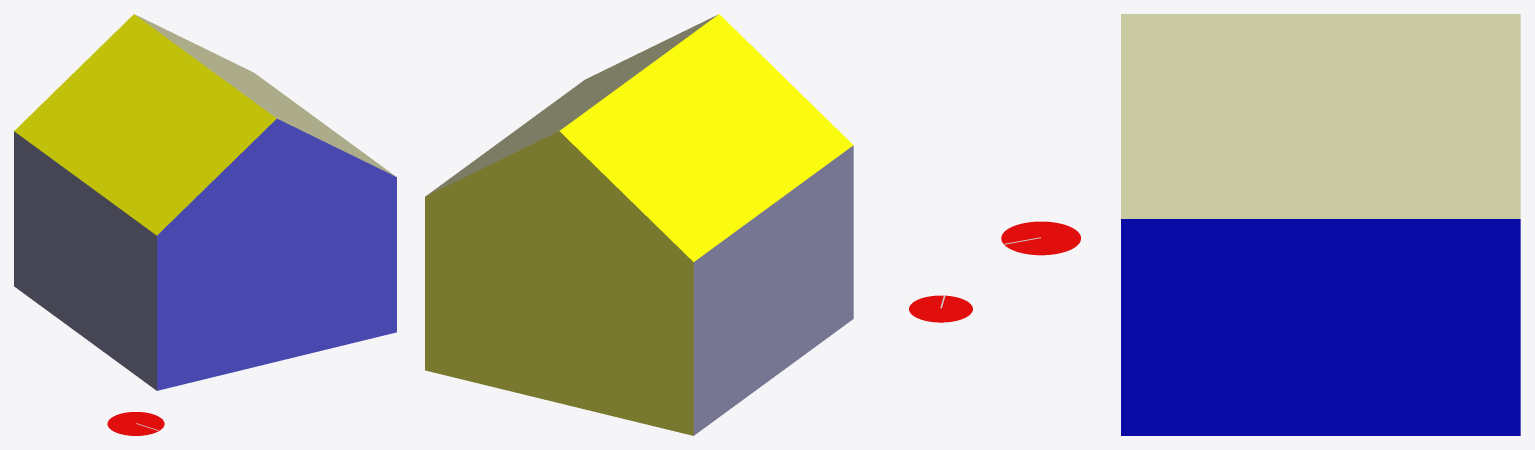
Rendered from result.glb.
3 renders of one model, left to right at view 1: azimuth 30°, elevation 25°; view 2: azimuth 150°, elevation 25°; view 3: azimuth 270°, elevation 25°, orthographic. The views are drawn at different scales.
Visible parts, largest first — view 1: 04df8688-8764-4cf7-9e5f-85a18e6a2532__undefined, 9fedee02-9d64-437b-9498-48f37453434b__undefined, 49dc986f-debe-4e49-924f-8e892e0bcc13__undefined, 67a25136-fb13-4ca8-a6e1-26213d1204b6__undefined, af03de26-1fa0-448a-99de-2a2d3e5d9b05__Circle; view 2: 39af03c7-c134-4eea-b84d-d43400f21daa__undefined, 9fedee02-9d64-437b-9498-48f37453434b__undefined, 49dc986f-debe-4e49-924f-8e892e0bcc13__undefined, 67a25136-fb13-4ca8-a6e1-26213d1204b6__undefined, af03de26-1fa0-448a-99de-2a2d3e5d9b05__Circle; view 3: 19af0414-eb62-4d3e-a266-08fb4b4e9453__undefined, 67a25136-fb13-4ca8-a6e1-26213d1204b6__undefined, af03de26-1fa0-448a-99de-2a2d3e5d9b05__Circle.
Boxes of the visible parts, x1=… form: 04df8688-8764-4cf7-9e5f-85a18e6a2532__undefined: x1=157, y1=119, x2=396, y2=390; 9fedee02-9d64-437b-9498-48f37453434b__undefined: x1=14, y1=14, x2=276, y2=235; 49dc986f-debe-4e49-924f-8e892e0bcc13__undefined: x1=14, y1=131, x2=156, y2=390; 67a25136-fb13-4ca8-a6e1-26213d1204b6__undefined: x1=136, y1=15, x2=395, y2=176; af03de26-1fa0-448a-99de-2a2d3e5d9b05__Circle: x1=107, y1=412, x2=164, y2=435; 39af03c7-c134-4eea-b84d-d43400f21daa__undefined: x1=425, y1=131, x2=693, y2=435; 9fedee02-9d64-437b-9498-48f37453434b__undefined: x1=559, y1=14, x2=853, y2=261; 49dc986f-debe-4e49-924f-8e892e0bcc13__undefined: x1=693, y1=145, x2=853, y2=435; 67a25136-fb13-4ca8-a6e1-26213d1204b6__undefined: x1=426, y1=15, x2=717, y2=195; af03de26-1fa0-448a-99de-2a2d3e5d9b05__Circle: x1=909, y1=295, x2=972, y2=322; 19af0414-eb62-4d3e-a266-08fb4b4e9453__undefined: x1=1121, y1=219, x2=1520, y2=435; 67a25136-fb13-4ca8-a6e1-26213d1204b6__undefined: x1=1121, y1=14, x2=1520, y2=218; af03de26-1fa0-448a-99de-2a2d3e5d9b05__Circle: x1=1001, y1=221, x2=1080, y2=255.
Size of the model in its own units: 635 by 469 by 650.
